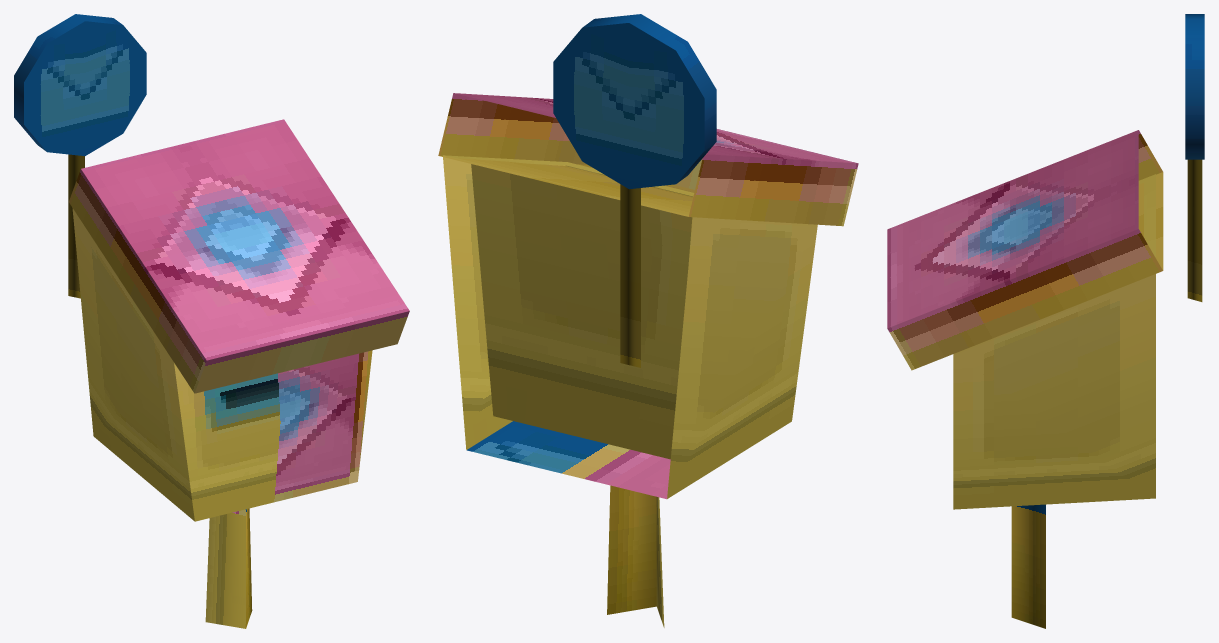
File: int_post_F01.dae
The picture shows the model from 3 angles, left to right: view 1: azimuth 30°, elevation 25°; view 2: azimuth 150°, elevation 25°; view 3: azimuth 270°, elevation 25°; orthographic projection. The views are drawn at different scales.
Parts seen in each view (by area): view 1: int_post_F01; view 2: int_post_F01; view 3: int_post_F01.
Boxes of the visible parts, x1=… form: int_post_F01: x1=14, y1=14, x2=409, y2=628; int_post_F01: x1=438, y1=14, x2=858, y2=627; int_post_F01: x1=887, y1=14, x2=1204, y2=628.
Bounding box in the file's own units: 20.17 × 45.75 × 23.41.
1 material, 1 textured.
